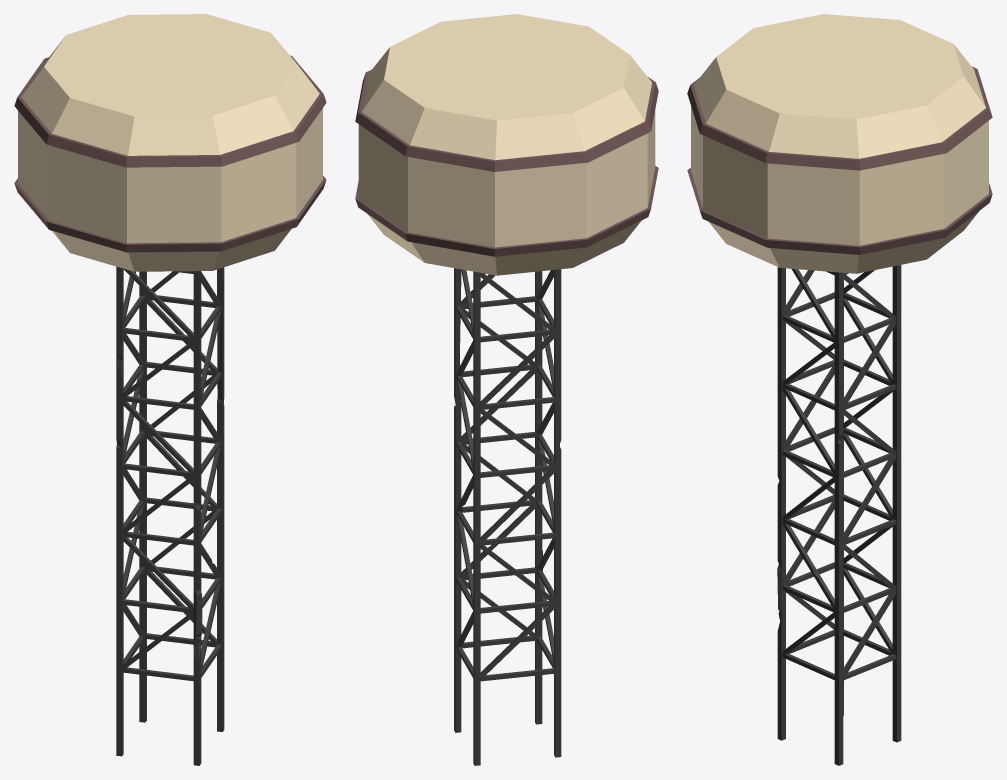
Rendered from 064 Water_Tank.FBX.
The picture shows the model from 3 angles, left to right: view 1: azimuth 30°, elevation 25°; view 2: azimuth 150°, elevation 25°; view 3: azimuth 270°, elevation 25°; orthographic projection.
Visible parts, largest first — view 1: Tank_1; view 2: Tank_1; view 3: Tank_1.
Boxes of the visible parts, bbox=[...] form: Tank_1: bbox=[14, 14, 326, 765]; Tank_1: bbox=[355, 14, 658, 765]; Tank_1: bbox=[687, 14, 992, 765].
Bounding box in the file's own units: 508 × 1225 × 503.
